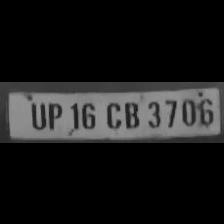0: (179, 96, 195, 124)
1: (64, 99, 78, 131)
3: (144, 96, 162, 128)
6: (77, 98, 99, 130), (196, 94, 212, 125)
7: (162, 96, 178, 127)
B: (122, 97, 142, 128)
C: (102, 97, 122, 128)
P: (44, 99, 64, 131)
U: (26, 98, 46, 130)
